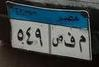4: (25, 25, 33, 46)
5: (17, 28, 24, 41)
9: (35, 28, 44, 47)
faa: (64, 32, 76, 48)
meem: (77, 35, 86, 51)
saad: (52, 34, 63, 46)
